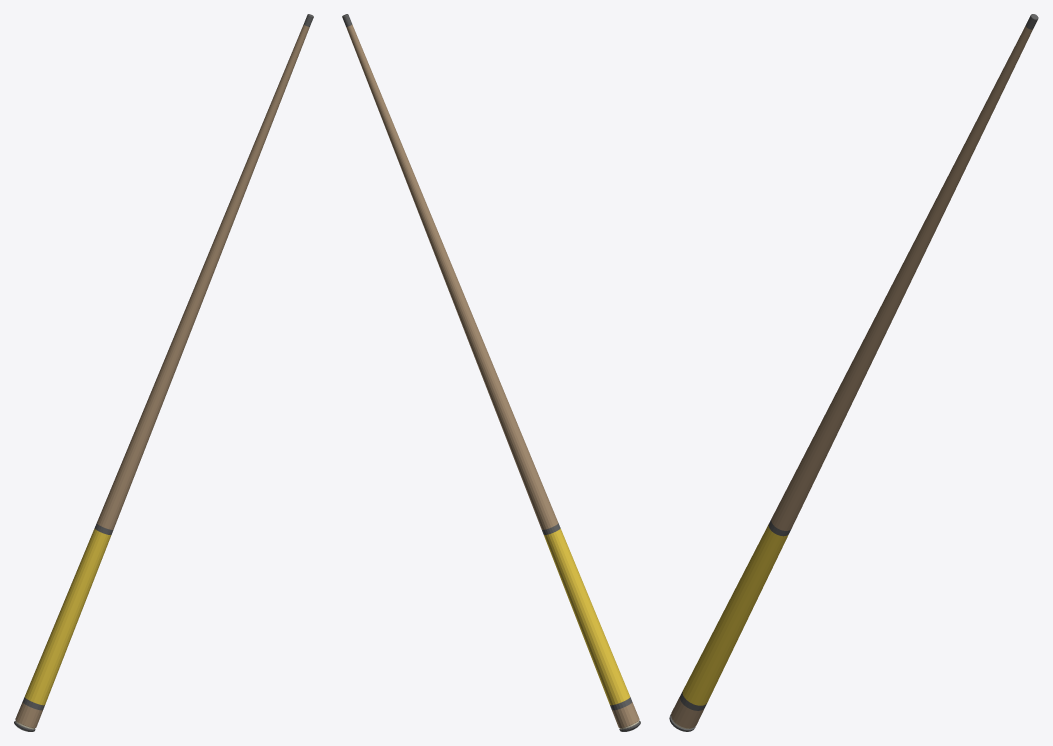
Rendered from cue.fbx.
3 views of the same model, side by side, from view 1: azimuth 30°, elevation 25°; view 2: azimuth 150°, elevation 25°; view 3: azimuth 330°, elevation 25° (orthographic). The views are drawn at different scales.
Parts seen in each view (by area): view 1: Cue; view 2: Cue; view 3: Cue.
Boxes of the visible parts, x1=… form: Cue: x1=14, y1=14, x2=313, y2=731; Cue: x1=342, y1=14, x2=640, y2=731; Cue: x1=669, y1=14, x2=1038, y2=731.
Bounding box in the file's own units: 238 × 496 × 15.6.
